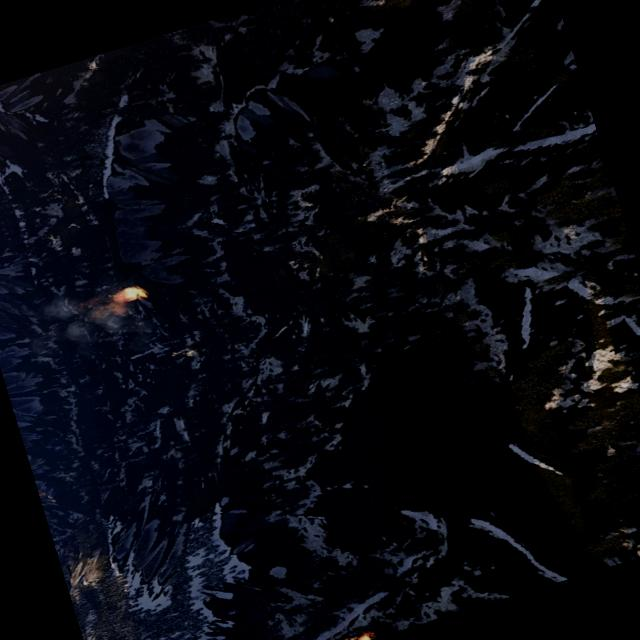fire: (116, 282, 148, 304), (337, 628, 374, 640)
smoke: (30, 276, 136, 359)
